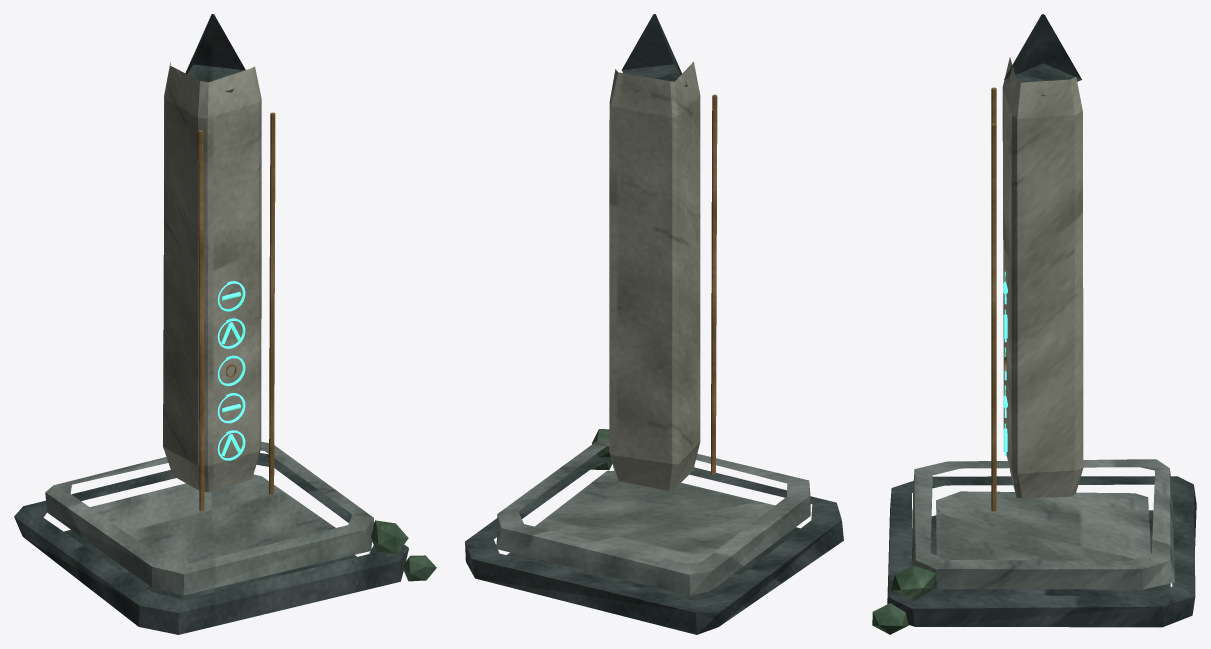
File: 0494_obelisk_19.glb
3 renders of one model, left to right at view 1: azimuth 30°, elevation 25°; view 2: azimuth 150°, elevation 25°; view 3: azimuth 270°, elevation 25°, orthographic. The views are drawn at different scales.
Parts seen in each view (by area): view 1: stone_light, stone, stone_dark, brass, glow, moss; view 2: stone_light, stone, stone_dark, brass; view 3: stone_light, stone, stone_dark, brass, moss, glow.
Boxes of the visible parts, x1,y1,x2,y2 form: stone_light: [163, 62, 261, 492]; stone: [45, 441, 373, 595]; stone_dark: [14, 14, 408, 634]; brass: [198, 112, 275, 511]; glow: [217, 281, 245, 460]; moss: [371, 520, 436, 581]; stone_light: [609, 61, 700, 490]; stone: [496, 438, 810, 595]; stone_dark: [465, 14, 843, 634]; brass: [711, 94, 717, 474]; stone_light: [1002, 57, 1083, 498]; stone: [911, 459, 1175, 589]; stone_dark: [887, 14, 1196, 627]; brass: [991, 87, 1006, 511]; moss: [872, 565, 936, 634]; glow: [1003, 271, 1007, 455].
Size of the model in its own units: 2 by 3.72 by 1.99.
6 materials, 6 textured.
